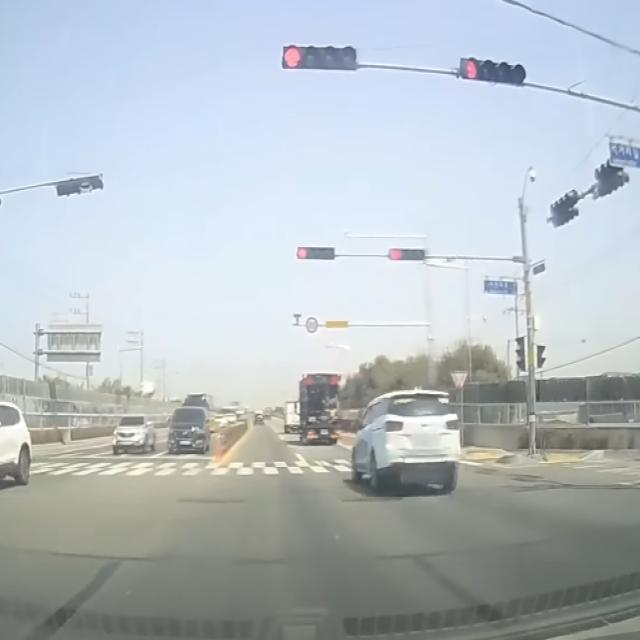Red Light: (280, 42, 302, 71), (458, 58, 480, 80), (389, 247, 401, 262), (297, 246, 307, 260)
